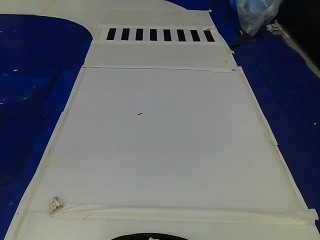crosswalk: (97, 22, 223, 46)
